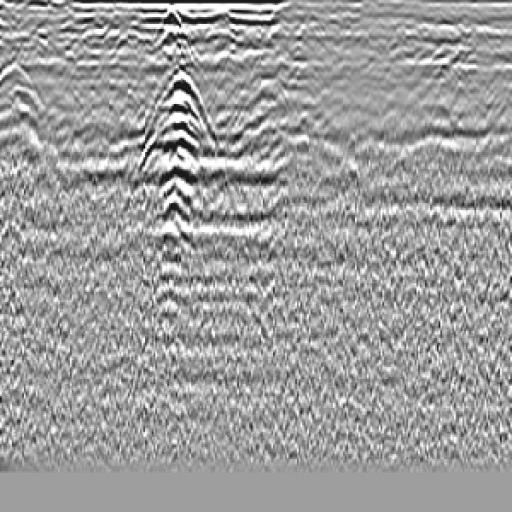metalic: (136, 54, 219, 294)
nonmetalic: (224, 51, 327, 182), (1, 51, 71, 155)
